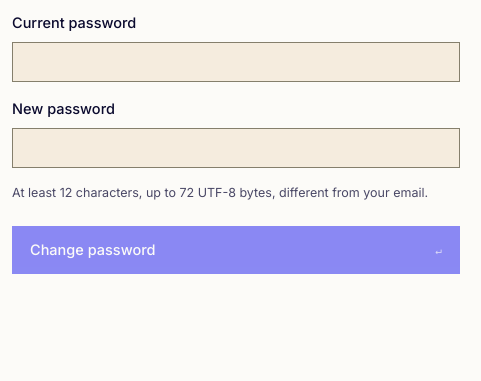
Scenario: AUTH-11 focuses and announces password change errors
Type "the wrong password" into the password field labelled "Current password" at (236,62), box [12,42,460,82]
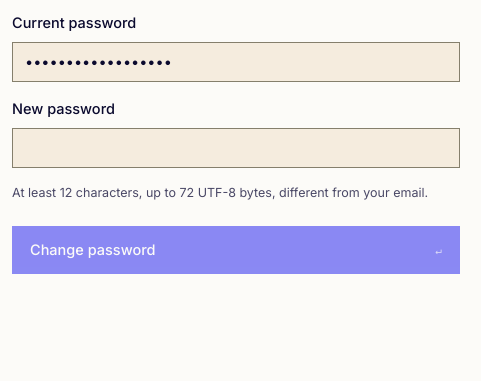
Type "the replacement password" into the password field labelled "New password" at (236,148), box [12,128,460,168]
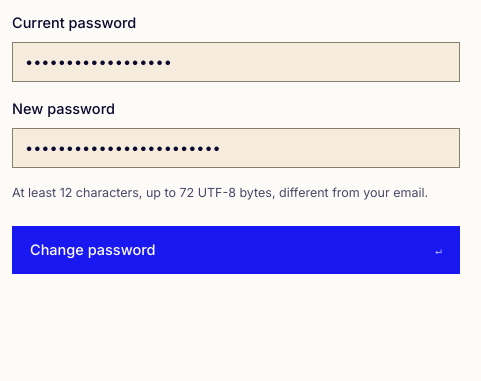
Click the button "Change password ↵" at (93,250), box [12,226,460,274]
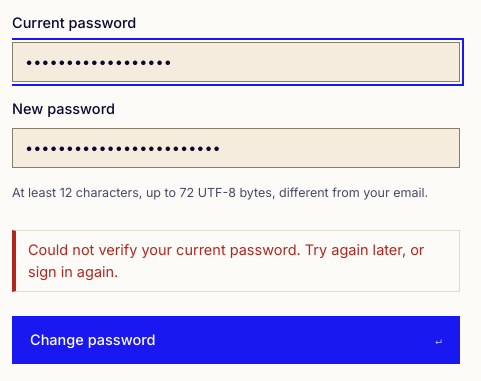
Result: the message shows "Could not verify your current password" at [28,241,424,280]
